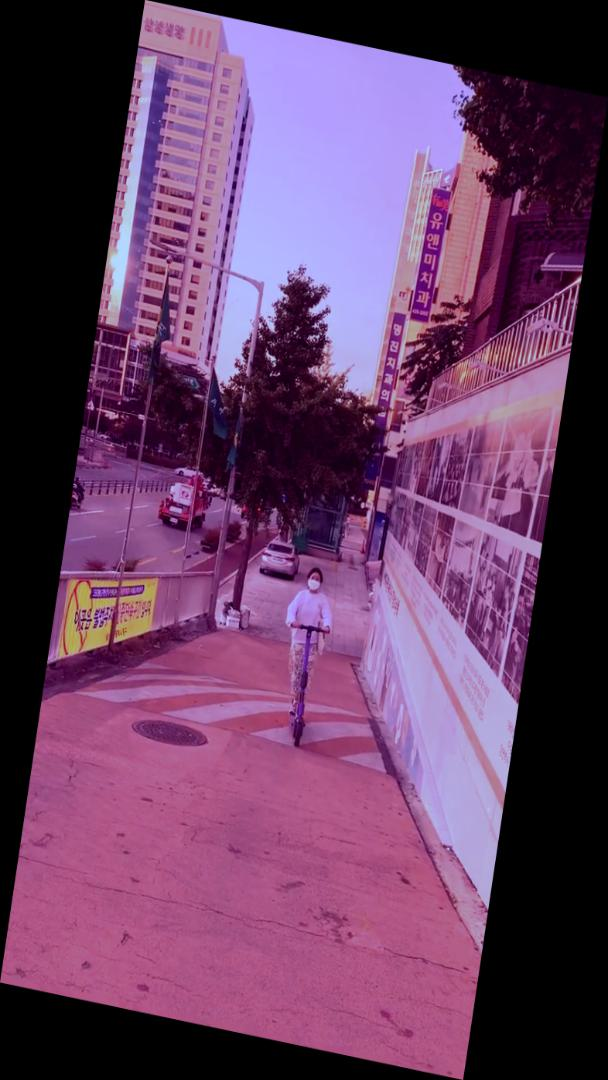nonhelmet: (267, 560, 346, 751)
